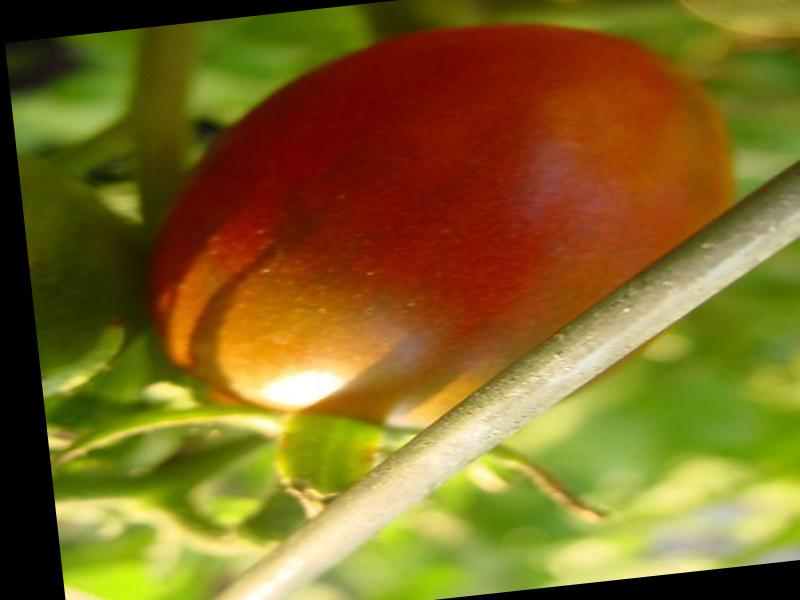Tomato: (132, 1, 747, 453)
